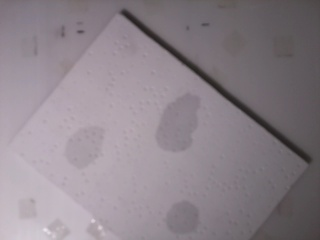Water_detected: (154, 102, 197, 148), (74, 127, 110, 165), (175, 197, 194, 217)
